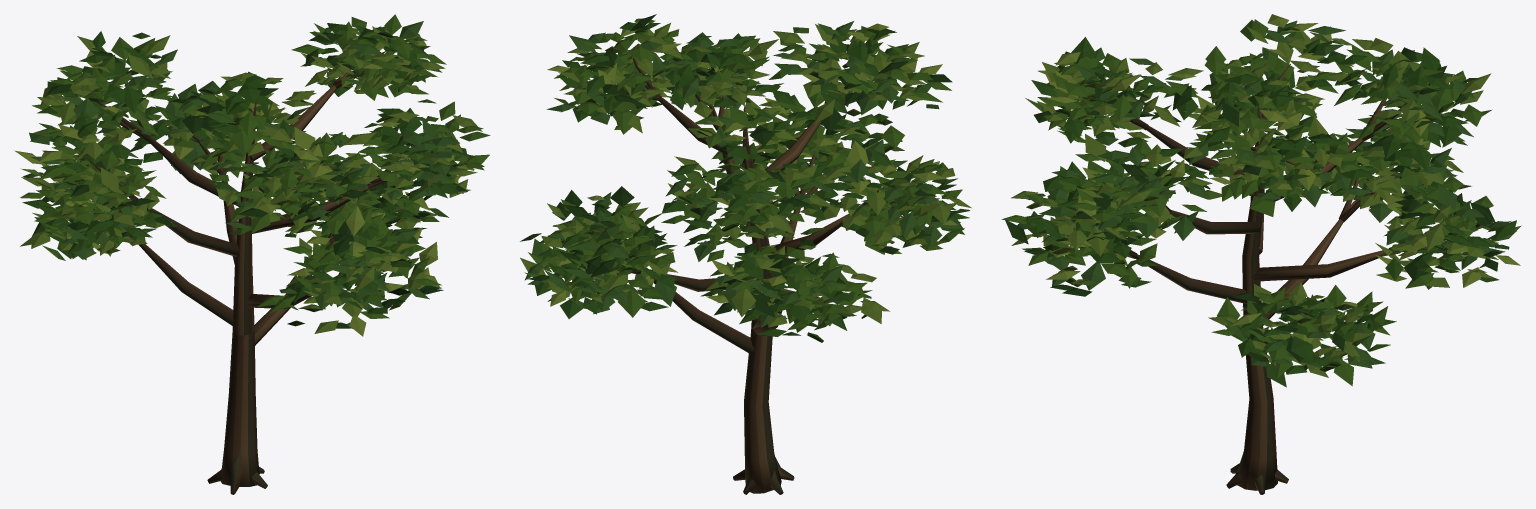
File: Beech_Broad_01.fbx
3 views of the same model, side by side, from view 1: azimuth 30°, elevation 25°; view 2: azimuth 150°, elevation 25°; view 3: azimuth 270°, elevation 25° (orthographic). The views are drawn at different scales.
Visible parts, largest first — view 1: Beech_Broad_01_LOD0.001; view 2: Beech_Broad_01_LOD0.001; view 3: Beech_Broad_01_LOD0.001.
Boxes of the visible parts, x1,y1,x2,y2 form: Beech_Broad_01_LOD0.001: [14, 14, 490, 494]; Beech_Broad_01_LOD0.001: [520, 14, 971, 494]; Beech_Broad_01_LOD0.001: [1001, 14, 1521, 494].
Size of what is drawn, in the model's own units: 10.1 by 10.33 by 10.95.
